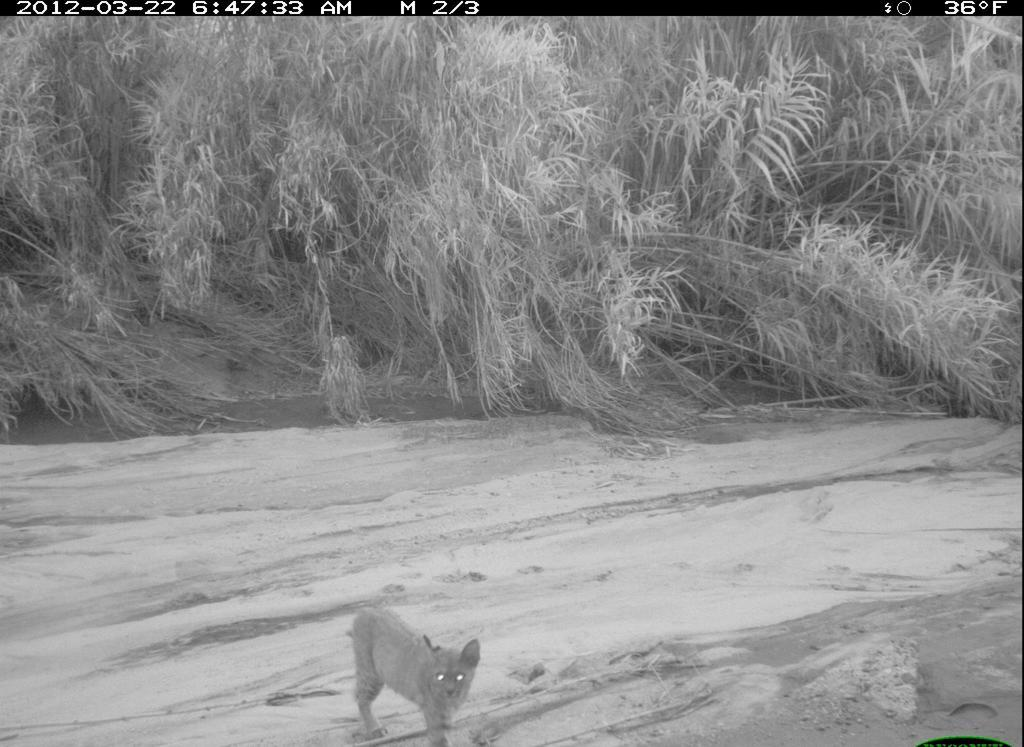bobcat: (344, 596, 487, 705)
